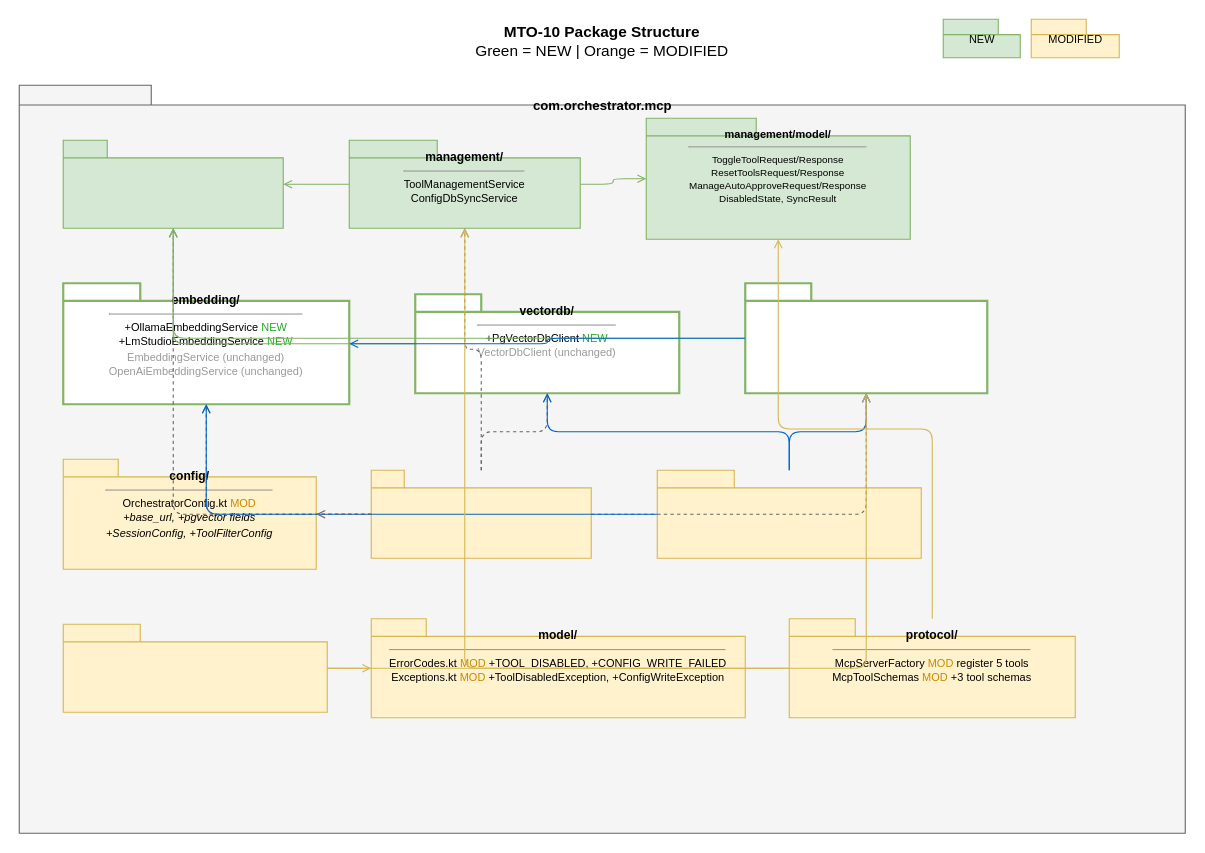
Image size: 1205x853. Some labels were removed from this diagram. Here are the shapes that lost their labels. From the top down, the box of each, then its label:
(62, 139, 283, 228): db/ DatabaseModule.kt HikariCP DataSource factory
(744, 282, 988, 394): registry/ +ToolFilterService NEW +ToolFilterServiceImpl NEW ToolIndexer MOD
(370, 469, 591, 558): di/ AppModule.kt MOD conditional DI bindings
(656, 469, 921, 558): discovery/ ToolDiscoveryServiceImpl MOD hybrid search + toggle filter
(62, 623, 327, 712): execution/ ToolExecutionDispatcherImpl MOD disabled tool check
